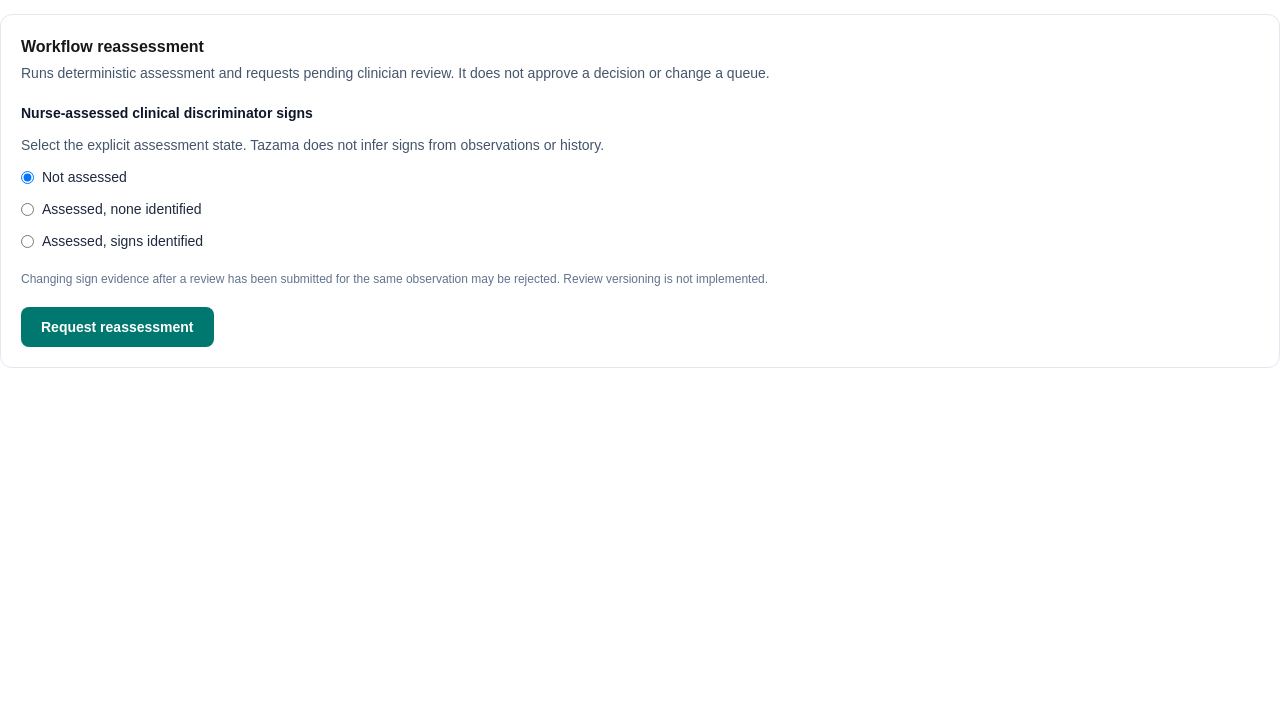
Test: ReassessmentPanel › shows a complete proposal with recognised sign evidence
Click the button "Request reassessment". click: (117, 327)
box: 21,307 -> 214,347
(page scrolled)
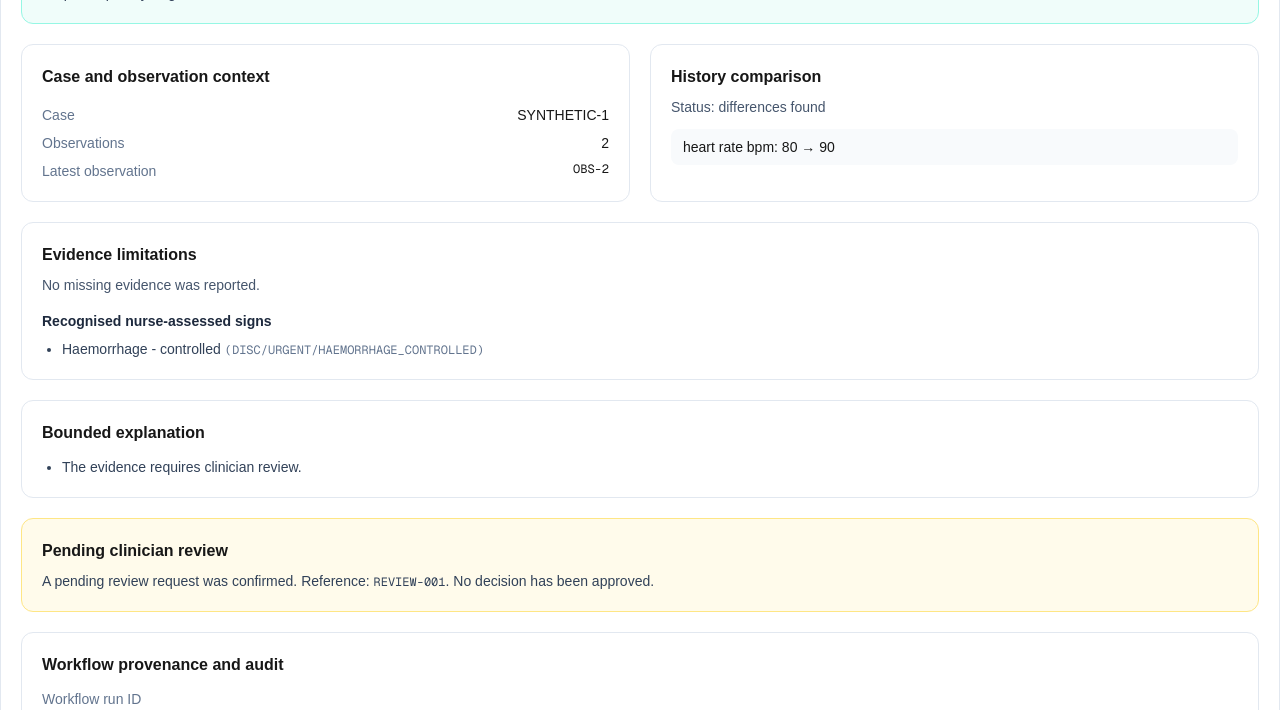
Result: the list item "Haemorrhage - controlled" is shown at 62,341 -> 221,357
